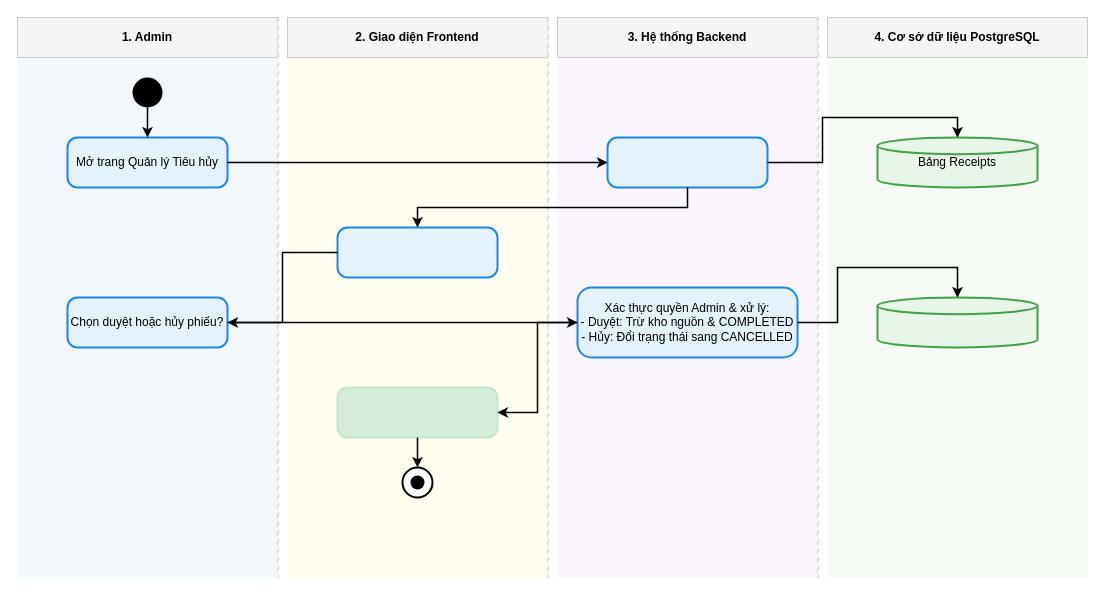
The diagram is 1105 pixels wide and 596 high, and some of its shapes have lost their labels. Each missing label, with the centre of its shape:
"Bảng Receipts, Inventories, Audit_Logs" belongs at [957,322].
"Hiển thị danh sách phiếu tiêu hủy" belongs at [417,252].
"Lọc phiếu DISPOSAL thuộc Kho tổng" belongs at [687,162].
"Thông báo thành công" belongs at [417,412].
